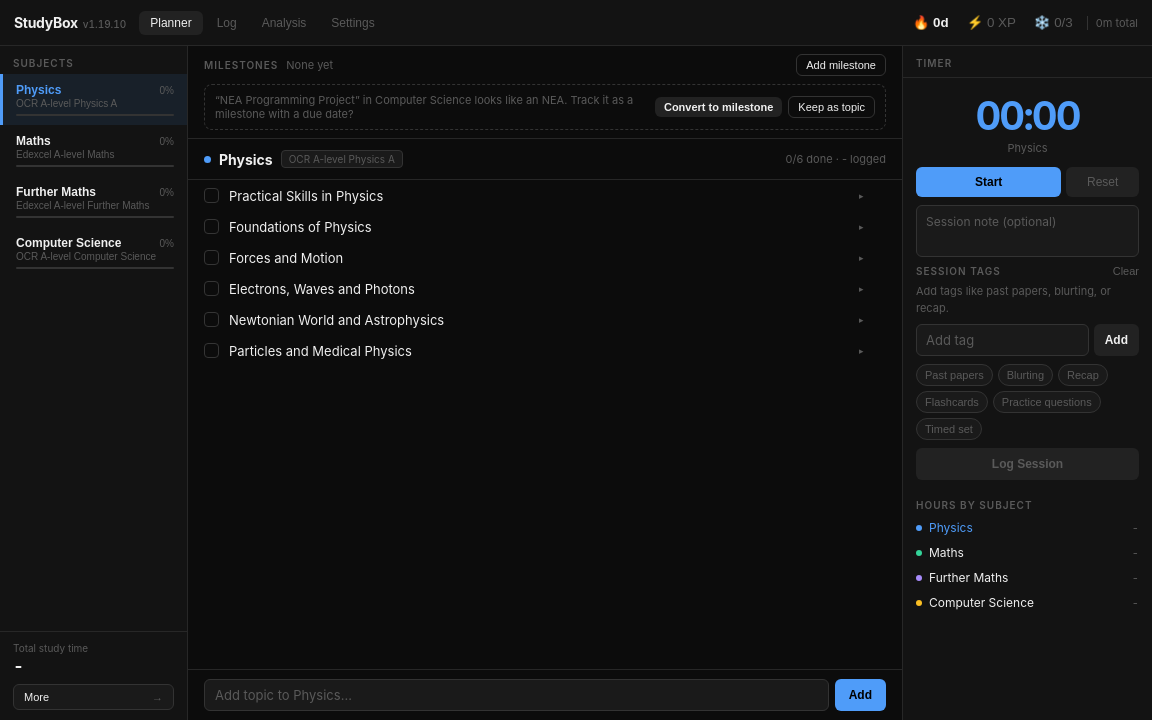
Scenario: Log view › shows an empty state before any session is logged
The width and height of the screenshot is (1152, 720).
Click the button "Log": (227, 22) [206, 10, 248, 34]
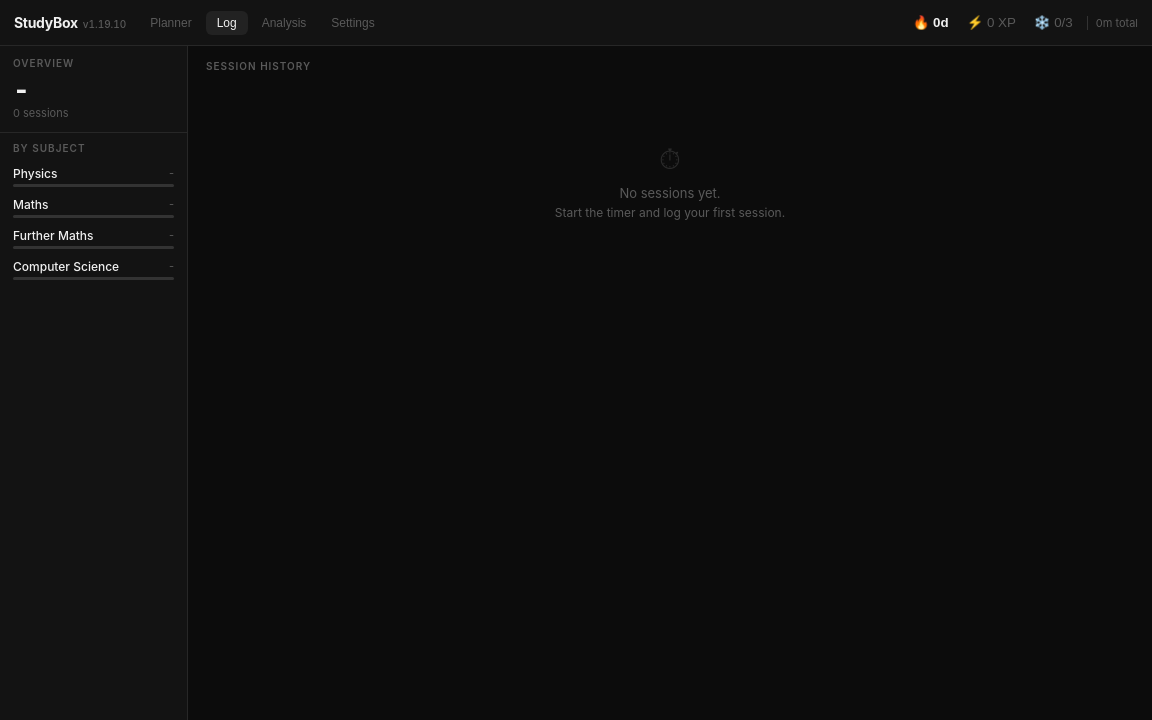
Check: the text "No sessions yet." is shown, box [619, 185, 721, 201]
